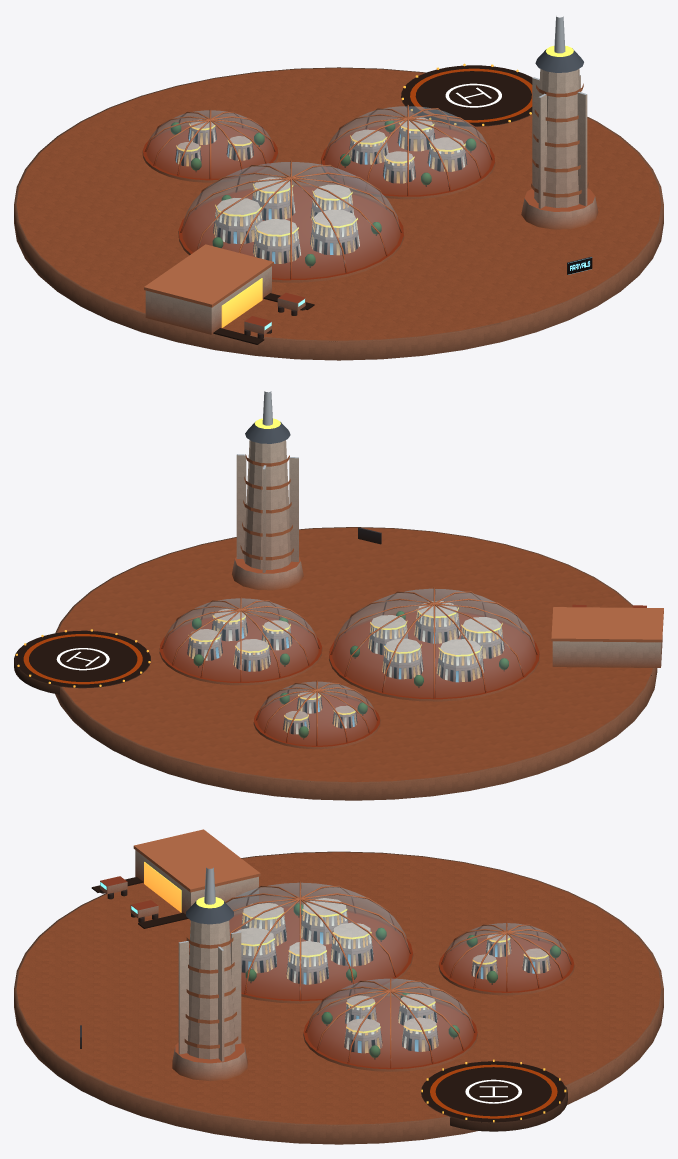
File: mars_dome_town.glb
The picture shows the model from 3 angles, top to bottom: view 1: azimuth 30°, elevation 25°; view 2: azimuth 150°, elevation 25°; view 3: azimuth 270°, elevation 25°; orthographic projection. The views are drawn at different scales.
Parts seen in each view (by area): view 1: mars_dome_town_LOD0; view 2: mars_dome_town_LOD0; view 3: mars_dome_town_LOD0.
Boxes of the visible parts, left/top/right/bottom form: mars_dome_town_LOD0: left=14, top=16, right=663, bottom=360; mars_dome_town_LOD0: left=14, top=391, right=663, bottom=800; mars_dome_town_LOD0: left=14, top=829, right=663, bottom=1144.
Size of what is drawn, in the model's own units: 101 by 37 by 101.
4 materials, 3 textured.
